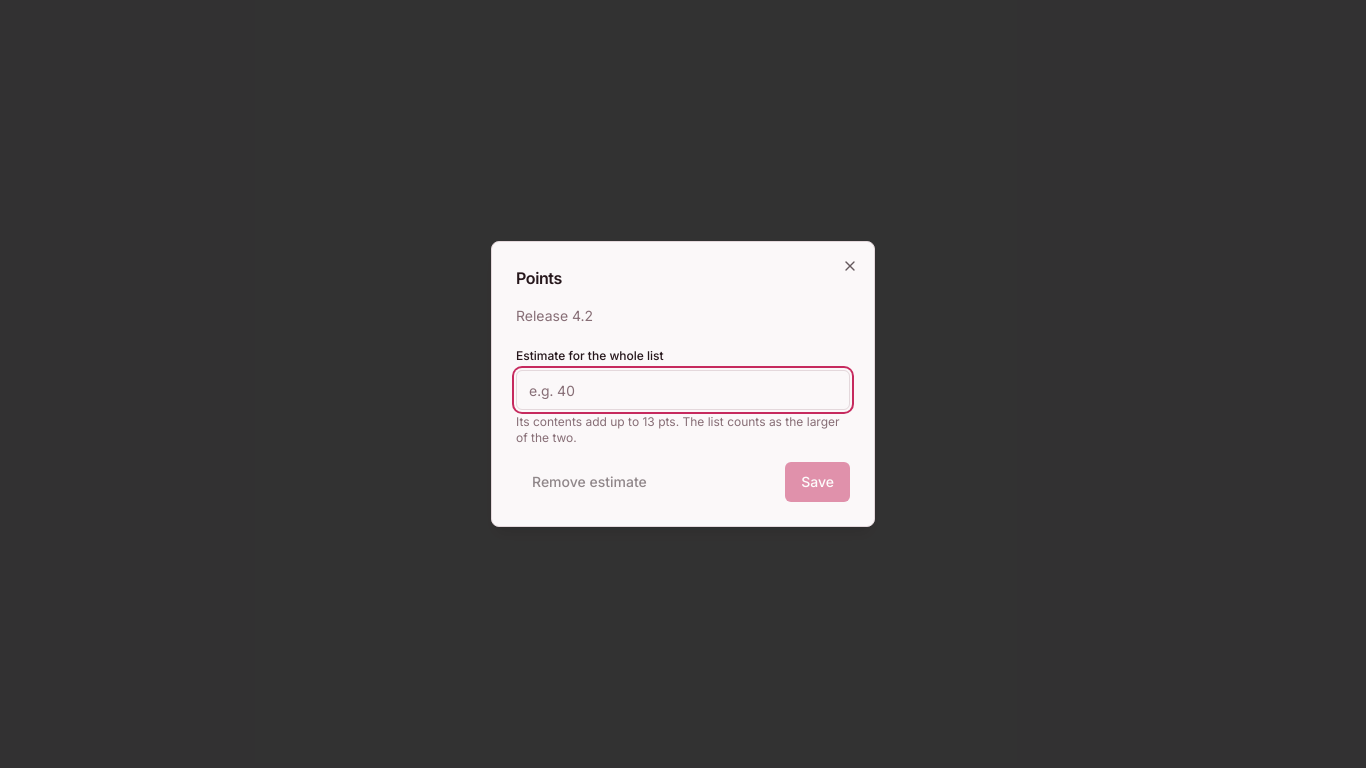
Test: BacklogPointsDialog › will not save anything but a whole number
Type "4.5" into the field labelled "Estimate for the whole list" at (683, 390), box [516,370,850,410]
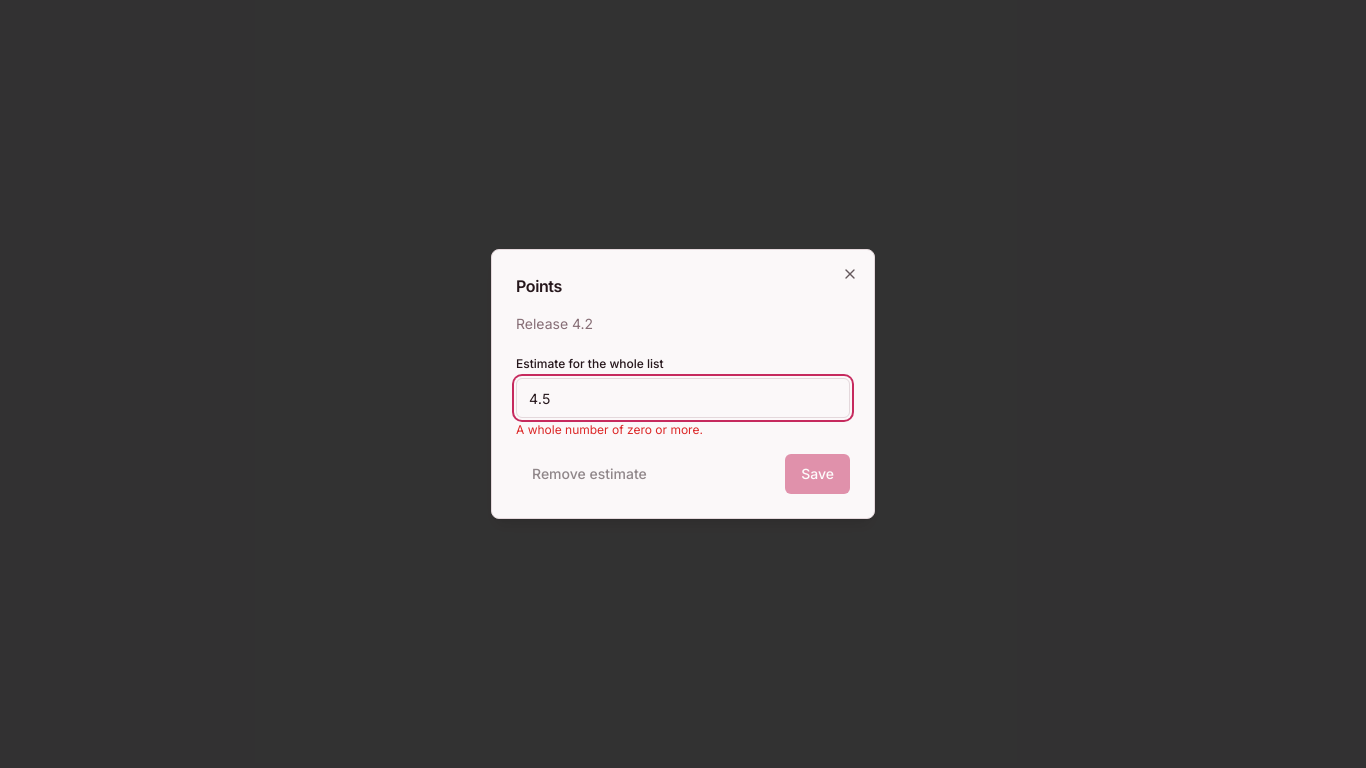
Expected: the button "Save" is disabled, [785,454,850,494]
Result: the text "A whole number of zero or more." is shown at [516,422,703,437]
